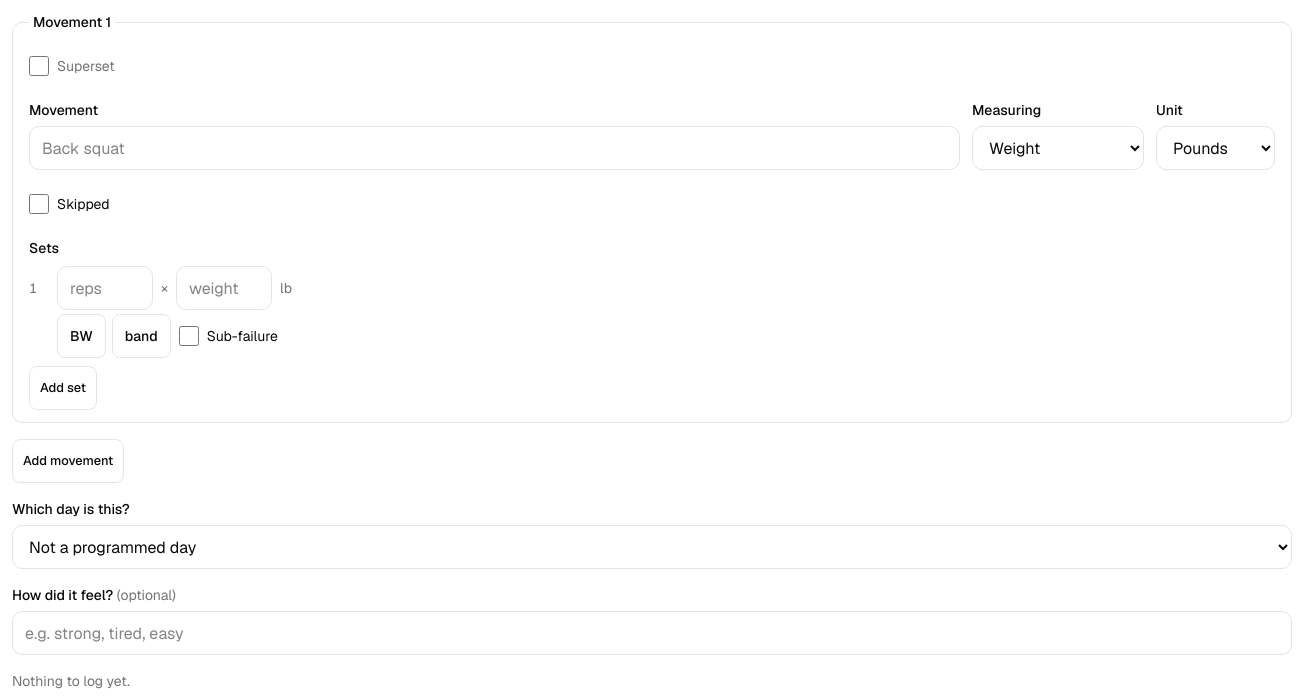
StrengthForm — the form offers only what the server keeps (V1-30b-i) › the accessible name is per dimension, and mass stays byte-identical
Type "Plank" into the field labelled "Movement" at (494, 148), box [29, 126, 960, 170]
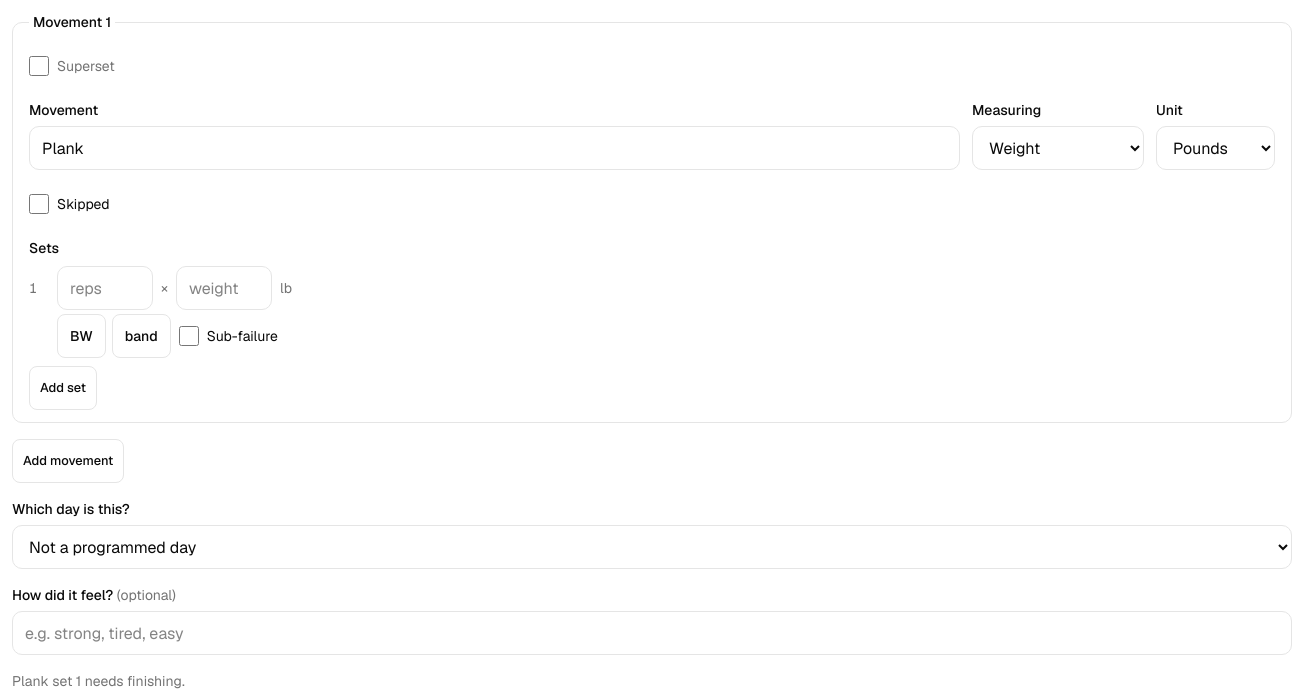
Expected: the number field named "Movement 1 set 1 weight in lb" is shown, [176, 266, 272, 310]
Select "Time" in the dropdown named "What movement 1 measures" at (1058, 148), box [972, 126, 1144, 170]
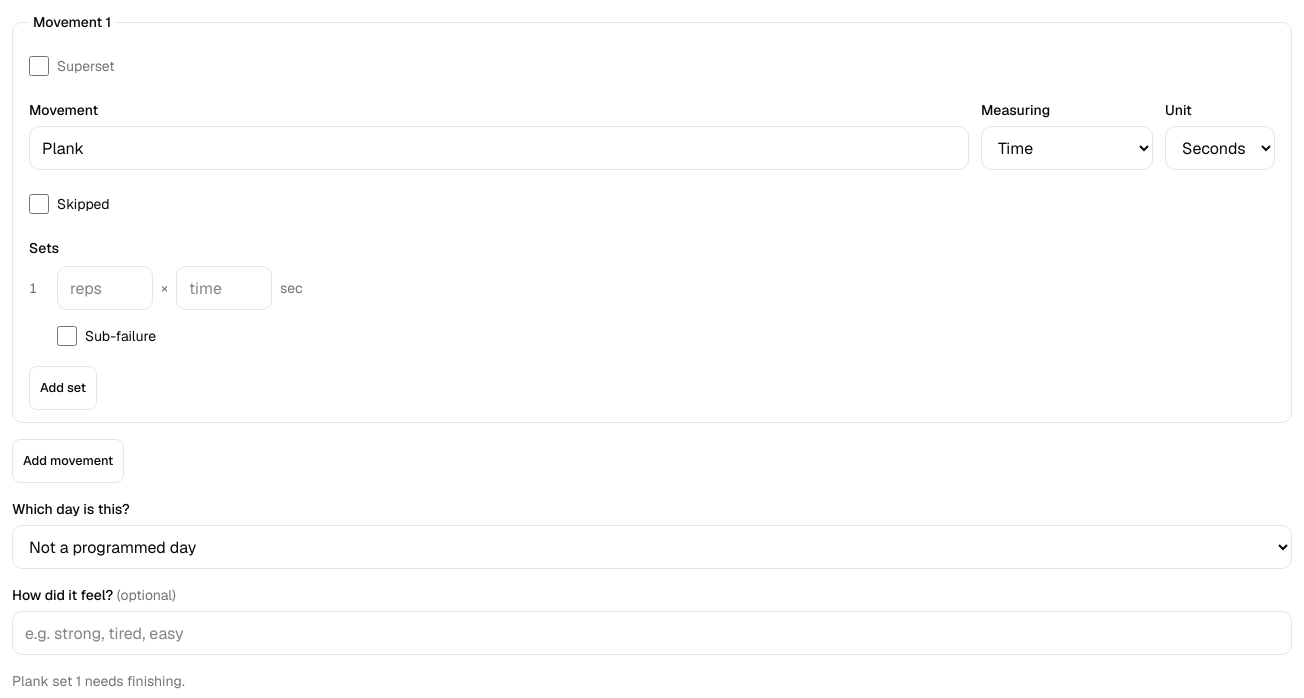
Now the number field named "Movement 1 set 1 time in seconds" is shown, box [176, 266, 272, 310]
Select "Height / distance" in the dropdown named "What movement 1 measures" at (1067, 148), box [981, 126, 1153, 170]
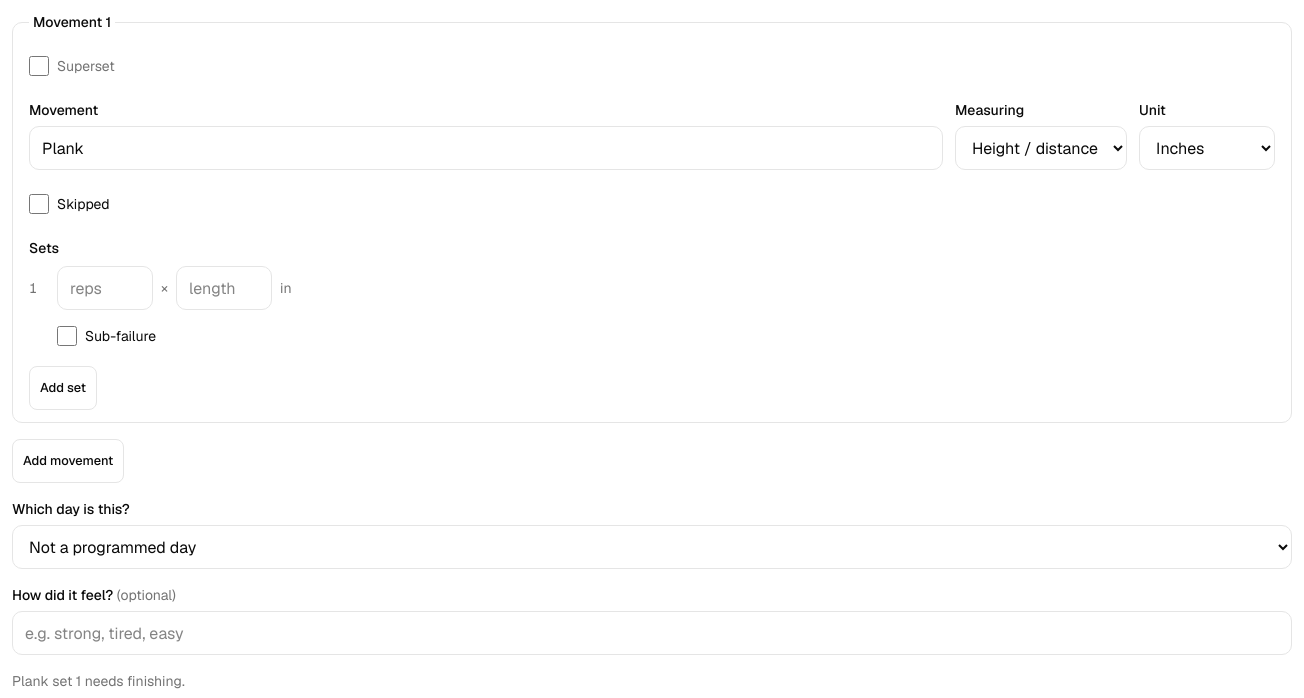
Now the number field named "Movement 1 set 1 length in inches" is shown, box [176, 266, 272, 310]
